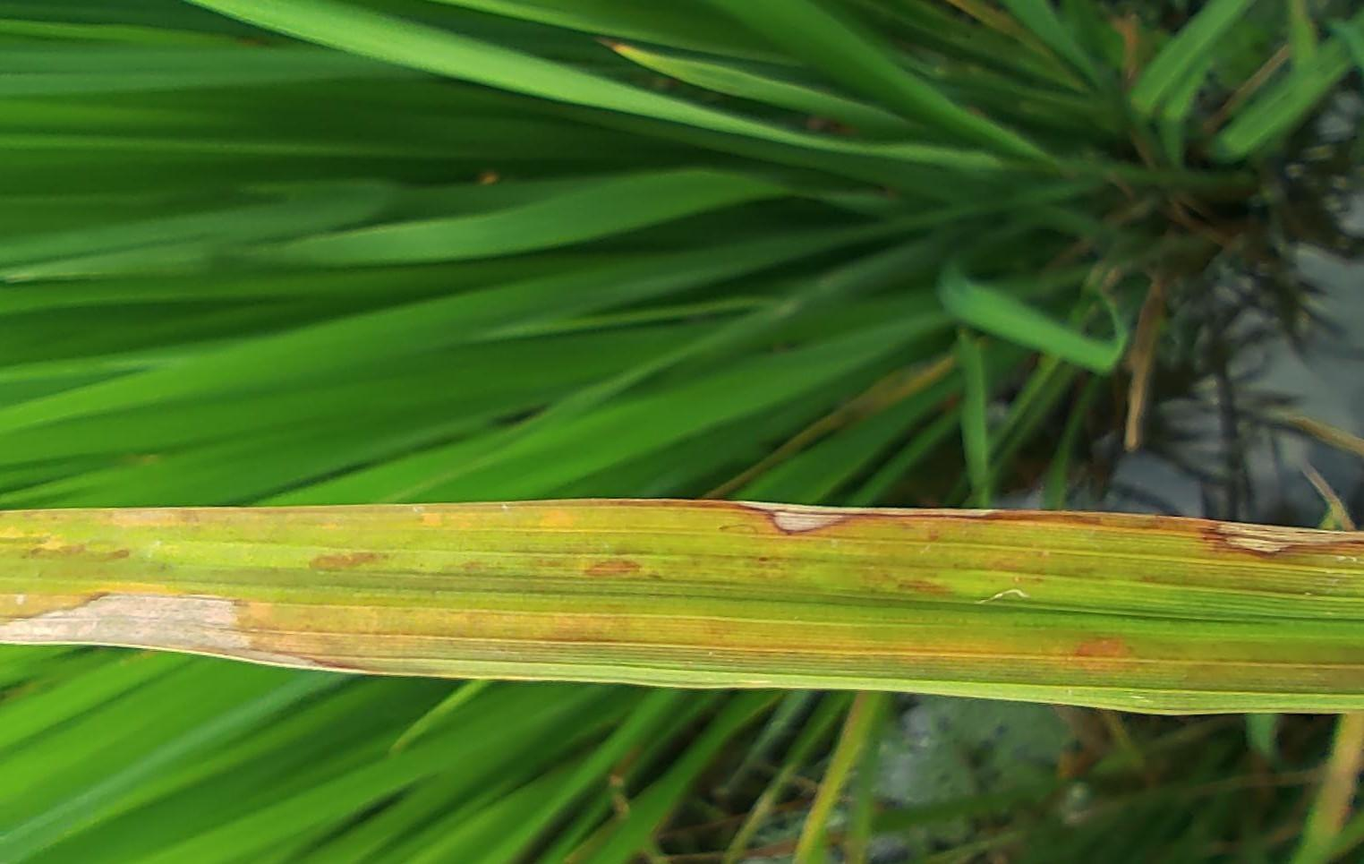LEAF: (0, 499, 1363, 714)
LEAF BLAST: (3, 592, 365, 672), (708, 501, 1098, 534), (1197, 522, 1361, 558)
